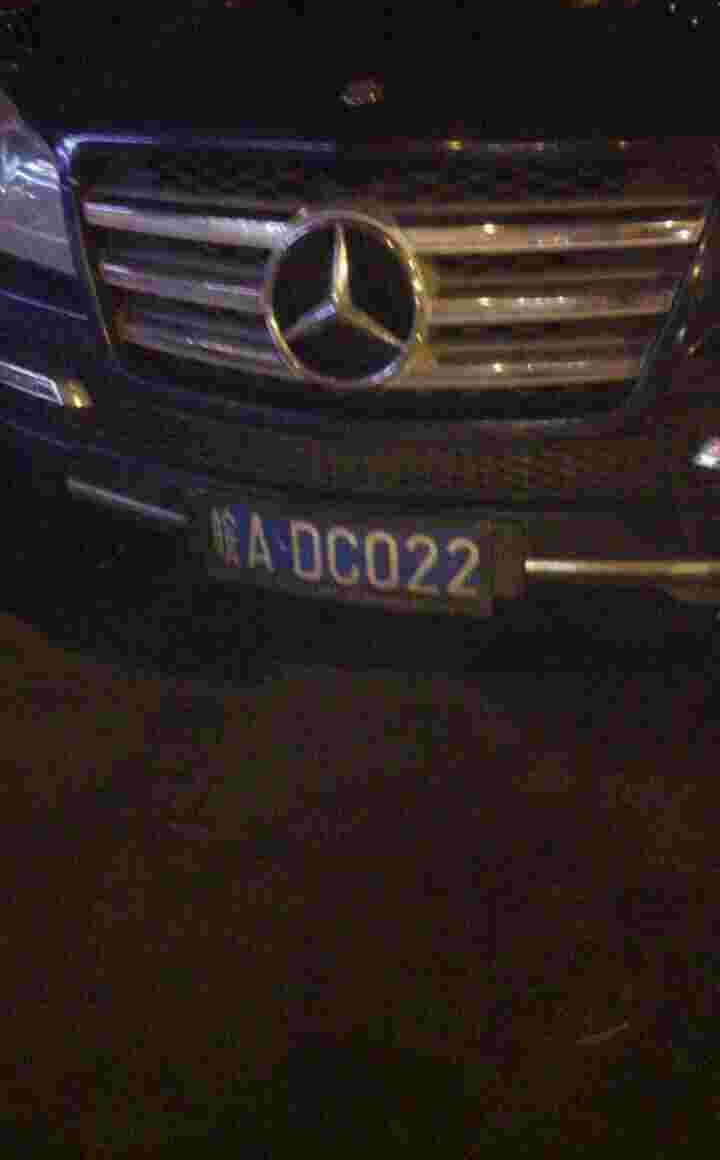plate: (191, 494, 496, 614)
